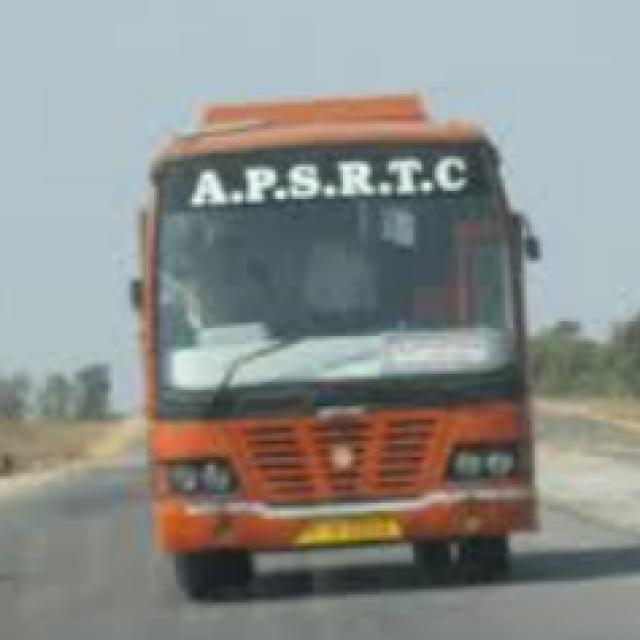bus_front: (123, 75, 576, 596)
